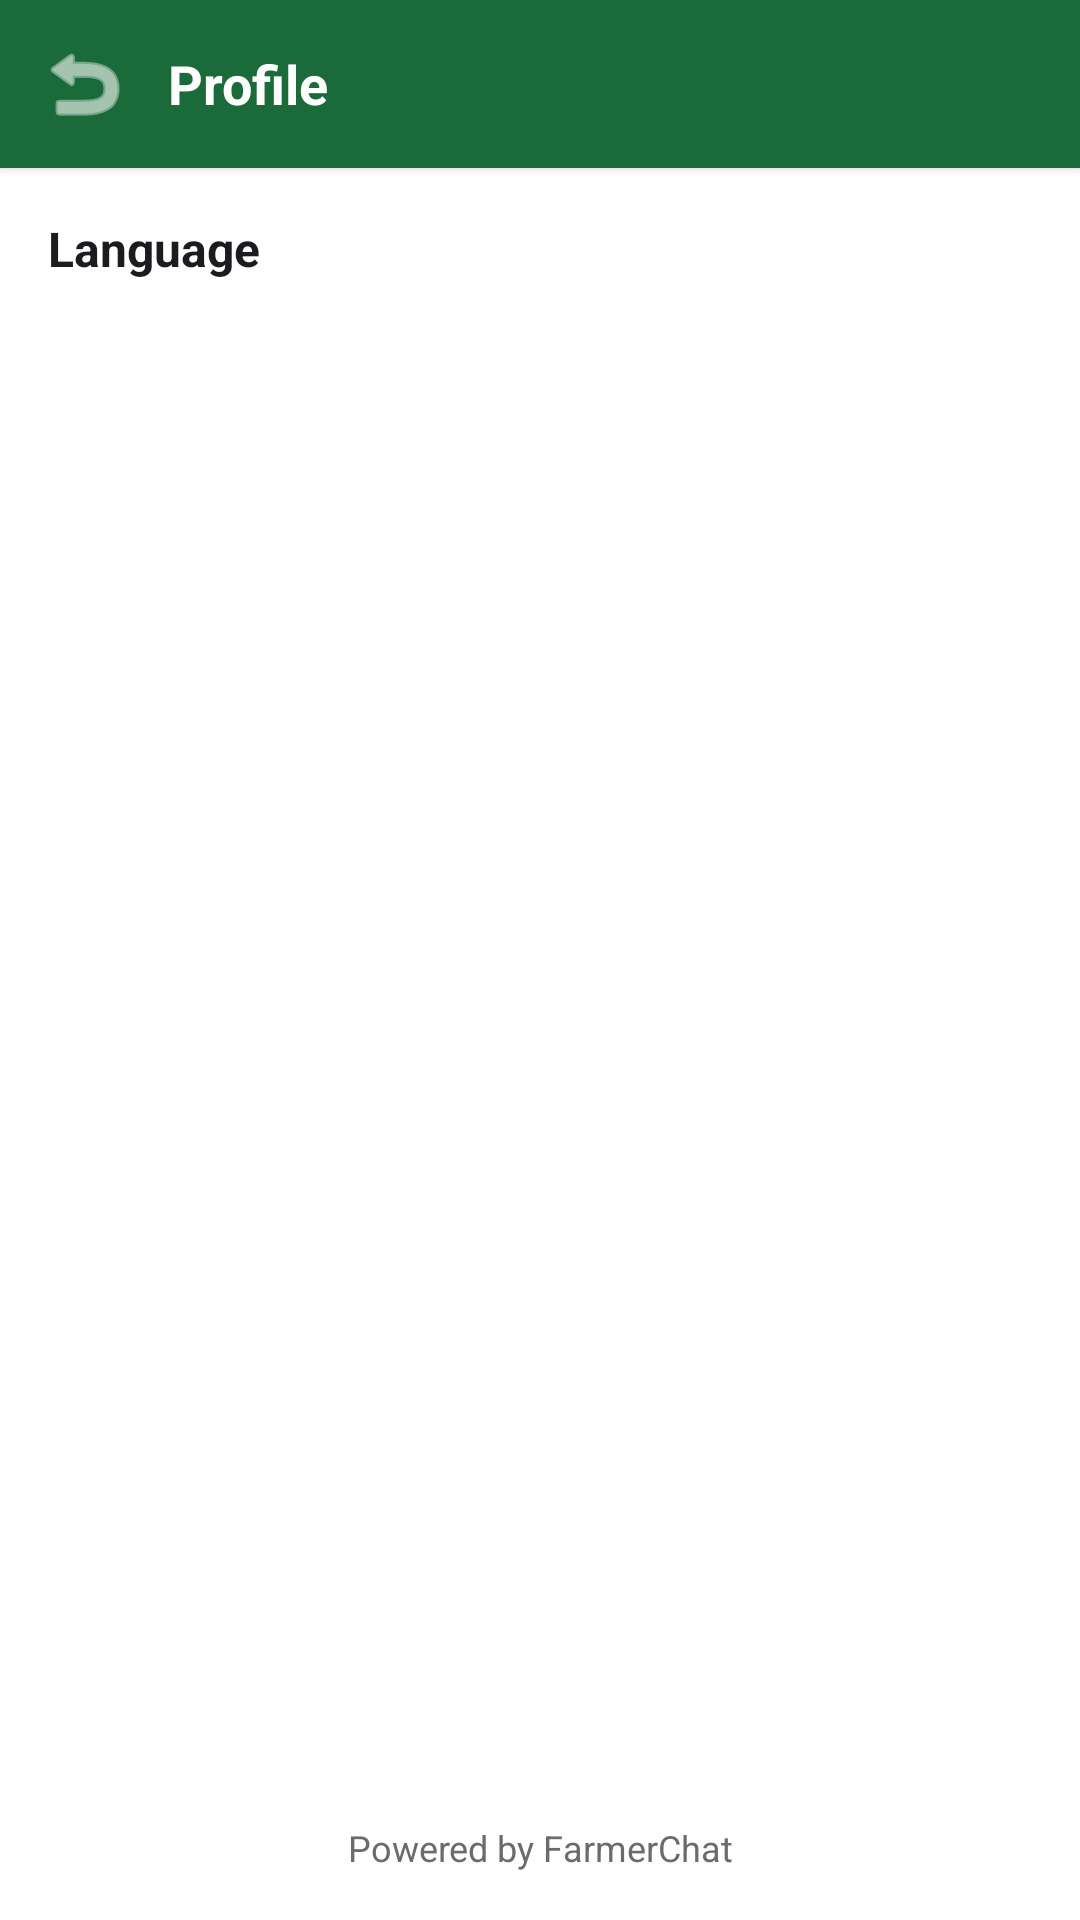

Icon bounding boxes for this 1080*1920 phone screenshot, format {"x1": x1, "y1": y1, "x2": x2, "y2": y2}:
Back: {"x1": 51, "y1": 53, "x2": 120, "y2": 116}
